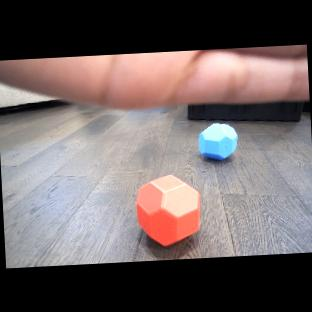V5_BLUE: (195, 122, 239, 162)
V5_RED: (131, 173, 206, 248)
